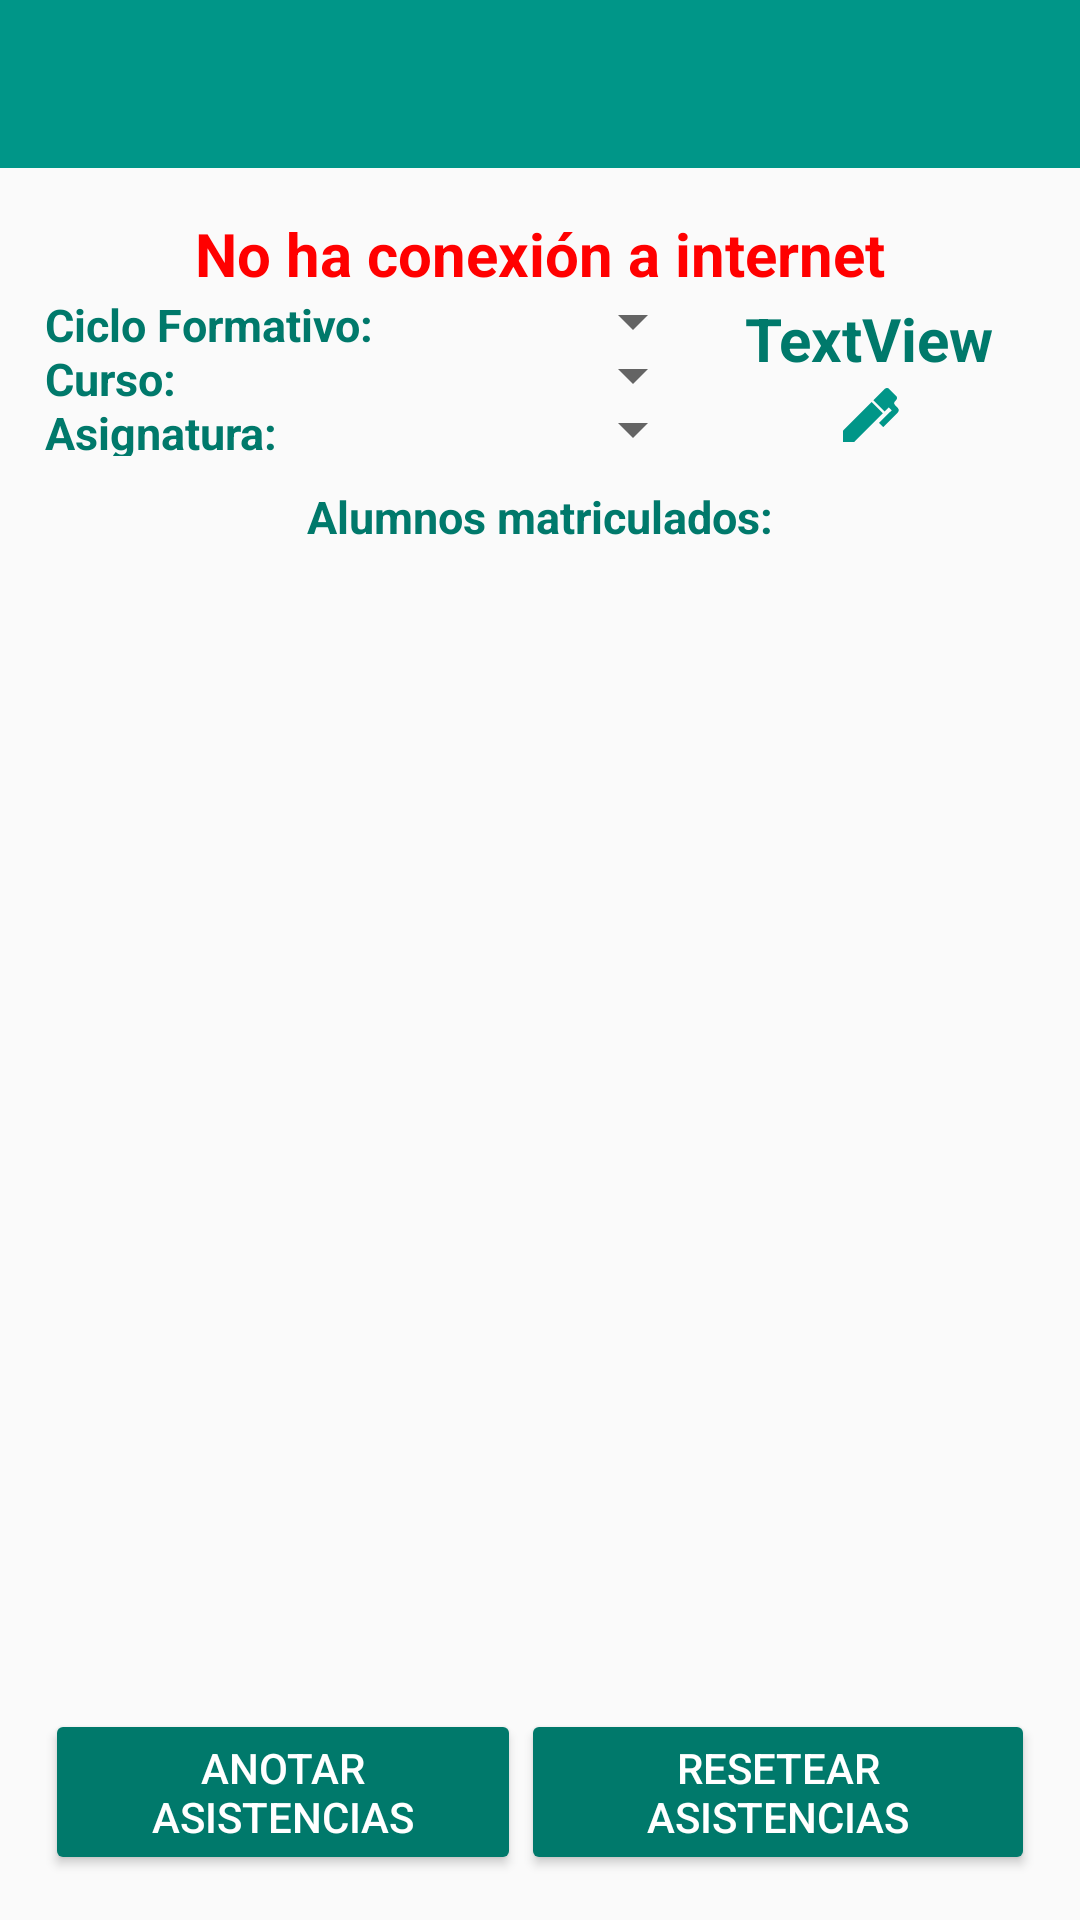

Named icons in this screenshot (1080x1920) and their centers, [x,y]:
pen: [871,415]
